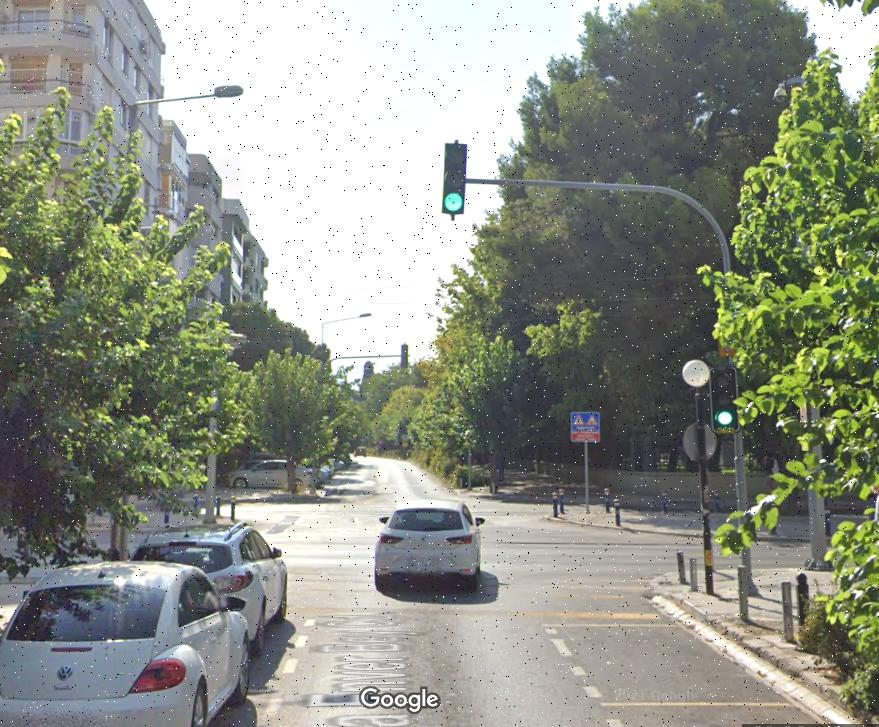greenlight: (444, 141, 467, 213), (710, 368, 739, 425)
